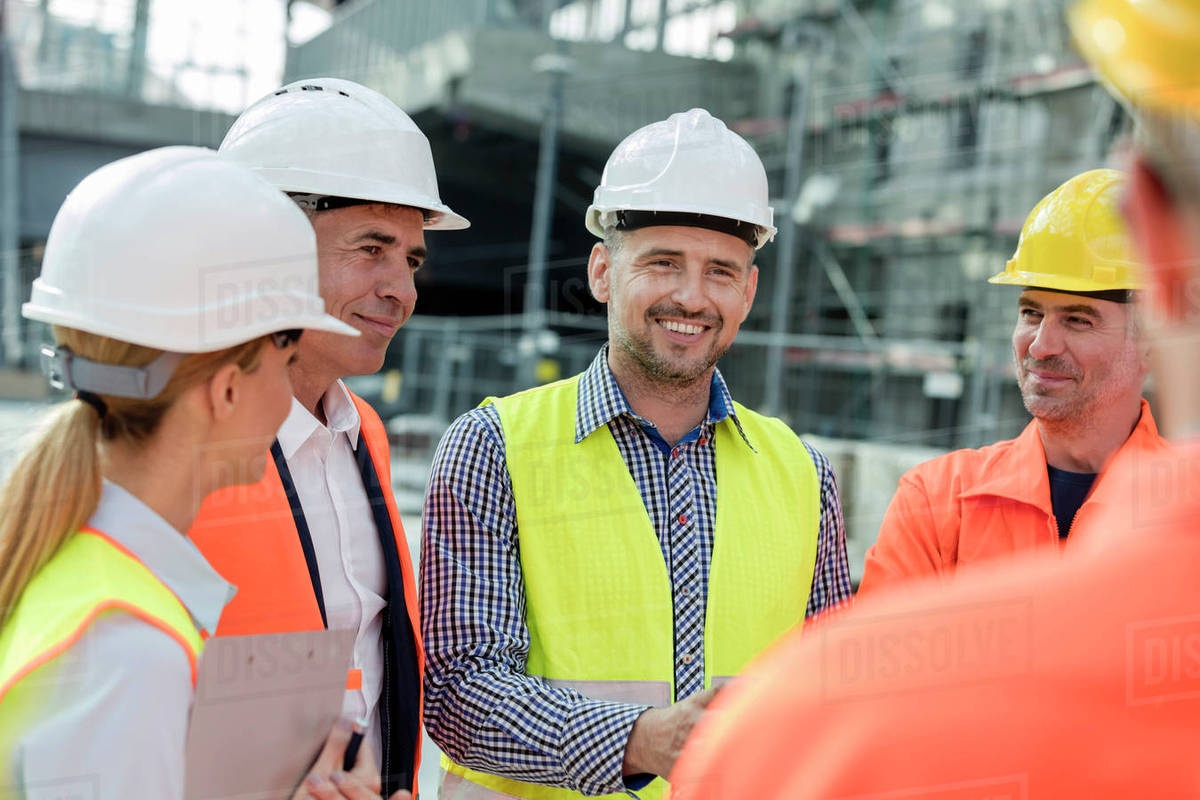white: (40, 142, 316, 494), (214, 77, 445, 377), (579, 106, 773, 382)
yellow: (1002, 165, 1165, 431)
